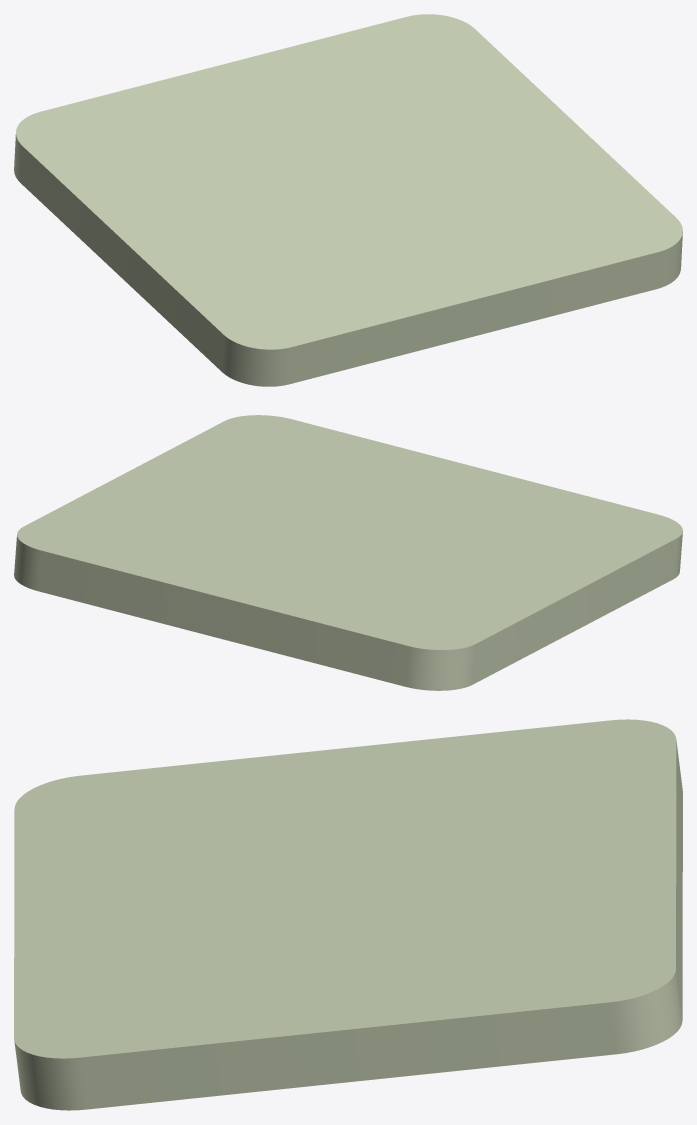
File: original-56.obj
3 views of the same model, one above another, from view 1: azimuth 30°, elevation 25°; view 2: azimuth 150°, elevation 25°; view 3: azimuth 270°, elevation 25° (orthographic). The views are drawn at different scales.
Visible parts, largest first — view 1: mesh62/mesh62-geometry#mesh62-geometry; view 2: mesh62/mesh62-geometry#mesh62-geometry; view 3: mesh62/mesh62-geometry#mesh62-geometry.
Boxes of the visible parts, x1,y1,x2,y2 form: mesh62/mesh62-geometry#mesh62-geometry: (14, 14, 682, 386); mesh62/mesh62-geometry#mesh62-geometry: (14, 415, 682, 690); mesh62/mesh62-geometry#mesh62-geometry: (14, 719, 682, 1110).
Bounding box in the file's own units: 0.0956 × 0.0196 × 0.0926.
